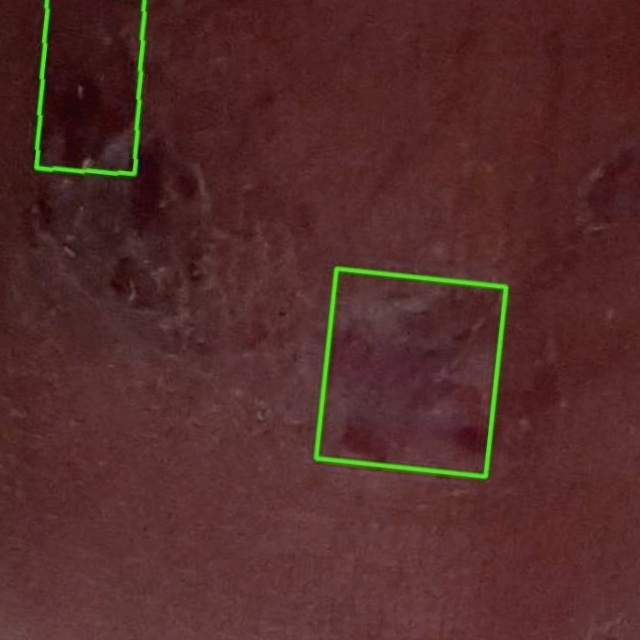Contact Dermatitis: (316, 268, 506, 476), (35, 0, 144, 174)
